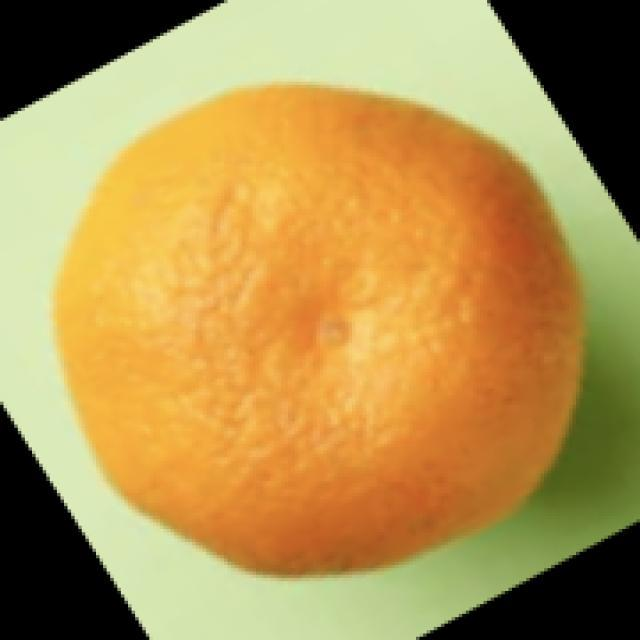Orange: (51, 81, 585, 578)
